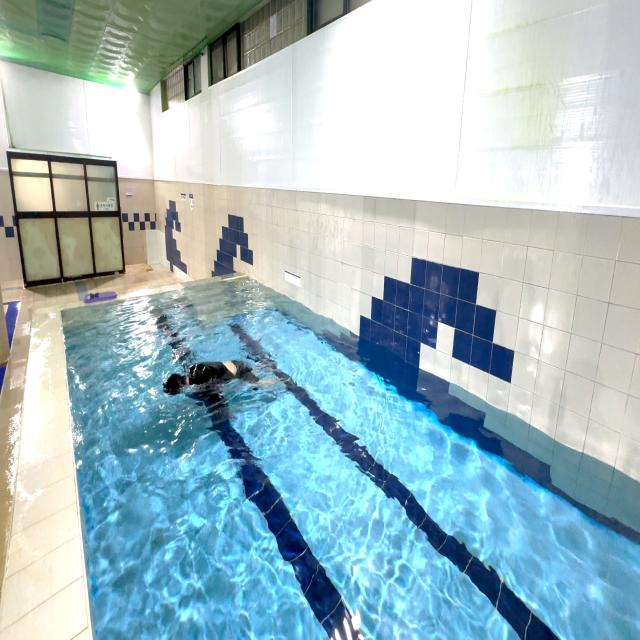Drowning: (154, 346, 284, 414)
